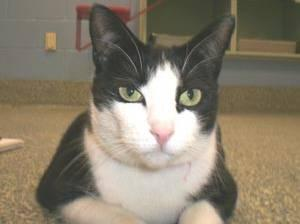cat: (38, 4, 237, 223)
